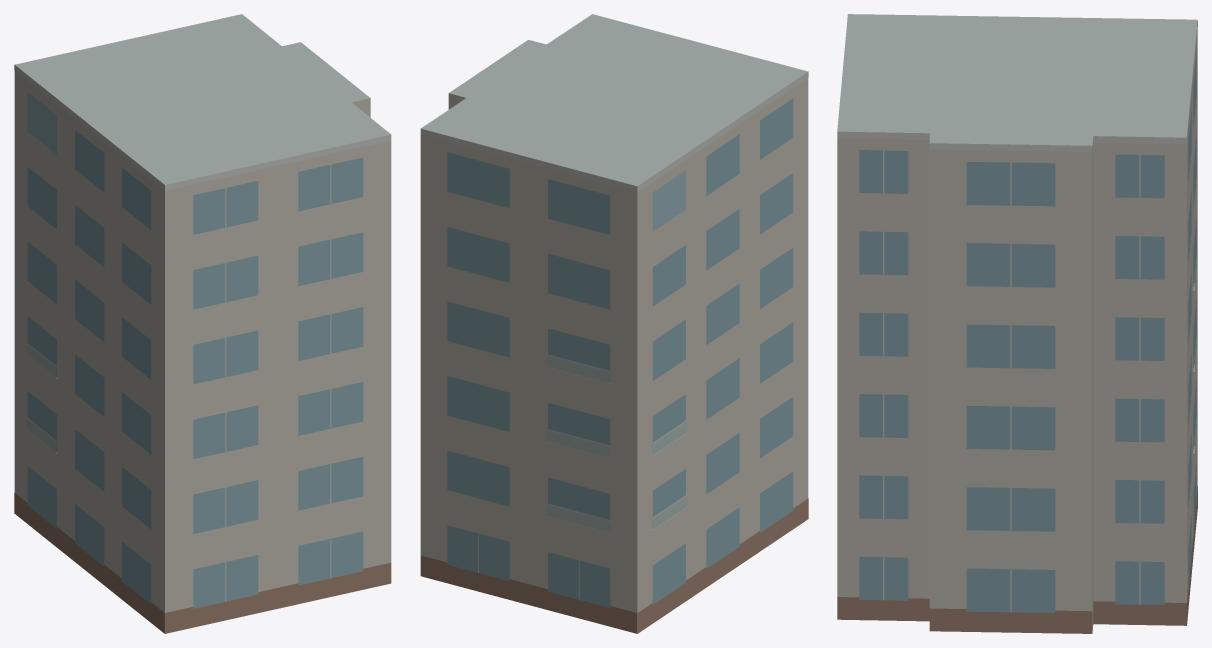
The model's file is survey-upis-32879017.glb.
3 renders of one model, left to right at view 1: azimuth 30°, elevation 25°; view 2: azimuth 150°, elevation 25°; view 3: azimuth 270°, elevation 25°, orthographic. The views are drawn at different scales.
Parts seen in each view (by area): view 1: survey-upis-32879017.tmp; view 2: survey-upis-32879017.tmp; view 3: survey-upis-32879017.tmp.
Part boxes in pixels (<box>): survey-upis-32879017.tmp: <box>14,14,391,633</box>; survey-upis-32879017.tmp: <box>420,14,808,633</box>; survey-upis-32879017.tmp: <box>837,14,1197,633</box>.
Bounding box in the file's own units: 10.78 × 18.6 × 12.46.
